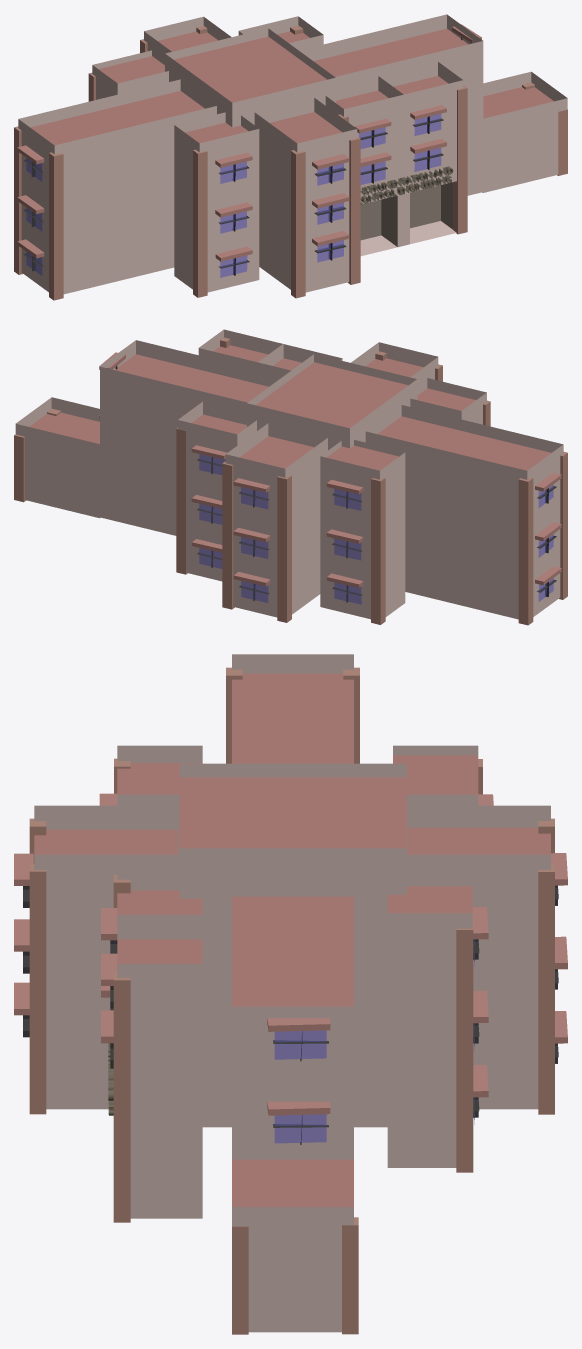
Rendered from ICE.glb.
The picture shows the model from 3 angles, top to bottom: view 1: azimuth 30°, elevation 25°; view 2: azimuth 150°, elevation 25°; view 3: azimuth 270°, elevation 25°; orthographic projection. The views are drawn at different scales.
Parts seen in each view (by area): view 1: Cube.005, Cube.006, Cube.009, Cube.002, Cube.004, Cube.030, Cube.003, Cube.008, Cube.011, Cube.014, Cube.012, Cube.013 (+21 smaller); view 2: Cube.005, Cube.004, Cube.007, Cube.011, Cube.002, Cube.003, Cube.010, Cube.015, Cube.009, Cube.017, Cube.016, Cube.030 (+19 smaller); view 3: Cube.002, Cube.004, Cube.006, Cube.007, Cube.010, Cube.030, Cube.001, Cube.003, Cube.005, Cube.008, Cube.011, Cube.019 (+8 smaller).
Boxes of the visible parts, <box> form: Cube.005: <box>18,79,216,294</box>; Cube.006: <box>254,97,357,292</box>; Cube.009: <box>174,112,259,292</box>; Cube.002: <box>165,28,335,121</box>; Cube.004: <box>299,14,483,195</box>; Cube.030: <box>378,61,463,245</box>; Cube.003: <box>482,71,567,192</box>; Cube.008: <box>325,76,403,256</box>; Cube.011: <box>92,50,168,99</box>; Cube.014: <box>49,152,63,300</box>; Cube.012: <box>291,150,305,298</box>; Cube.013: <box>193,149,207,297</box>; Cube.005: <box>365,405,563,619</box>; Cube.004: <box>100,340,283,535</box>; Cube.007: <box>225,423,327,617</box>; Cube.011: <box>320,440,405,619</box>; Cube.002: <box>247,354,417,442</box>; Cube.003: <box>15,397,100,518</box>; Cube.010: <box>178,401,256,581</box>; Cube.015: <box>518,477,533,625</box>; Cube.009: <box>410,378,486,424</box>; Cube.017: <box>277,475,291,622</box>; Cube.016: <box>371,477,385,624</box>; Cube.030: <box>198,329,283,369</box>; Cube.002: <box>179,763,406,1102</box>; Cube.004: <box>232,896,353,1159</box>; Cube.006: <box>34,805,178,1109</box>; Cube.007: <box>407,805,550,1109</box>; Cube.010: <box>387,864,472,1167</box>; Cube.030: <box>117,915,202,1218</box>; Cube.001: <box>179,872,406,1127</box>; Cube.003: <box>232,1159,353,1332</box>; Cube.005: <box>232,654,353,763</box>; Cube.008: <box>117,866,202,939</box>; Cube.011: <box>393,745,478,863</box>; Cube.019: <box>113,972,130,1222</box>.
Bounding box in the file's own units: 34.76 × 10.68 × 18.97.
